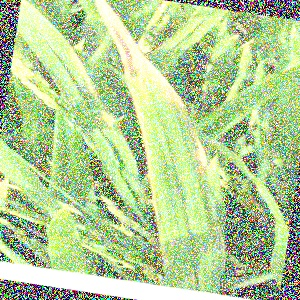Leaf_Blast: (116, 23, 217, 244)
